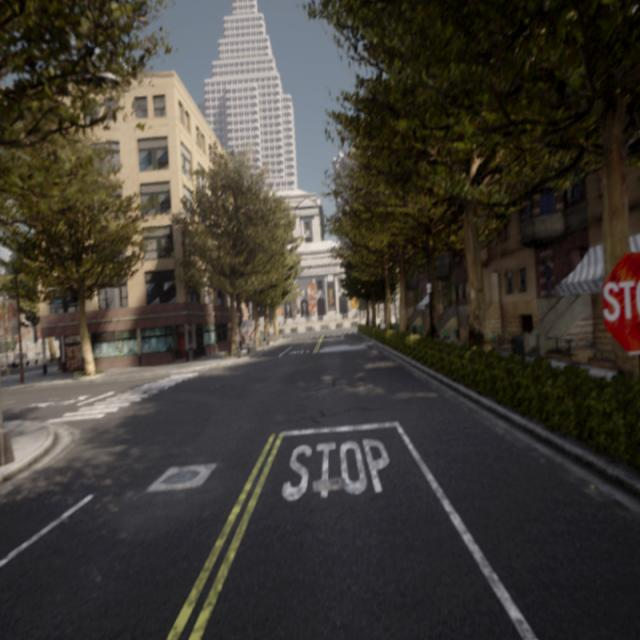stop sign: (598, 246, 639, 358)
